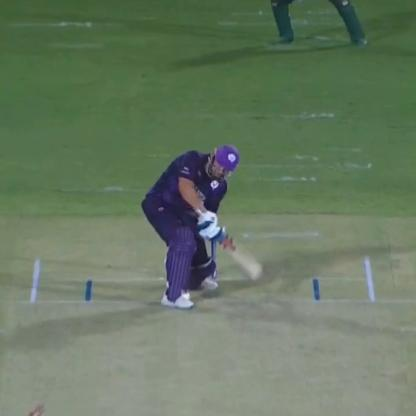ball: (176, 291, 192, 303)
bat: (4, 258, 416, 415)
pitch: (193, 204, 274, 276)
